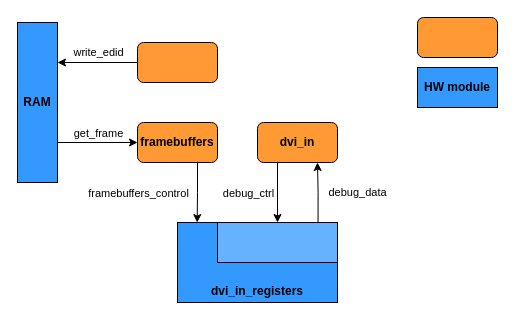
This 515x320 diagram has some shape labels left out. The centre of each missing label's shape, as x and y in pixels:
Debug Interface: point (277, 242)
edid: point (177, 62)
SW module: point (457, 37)
